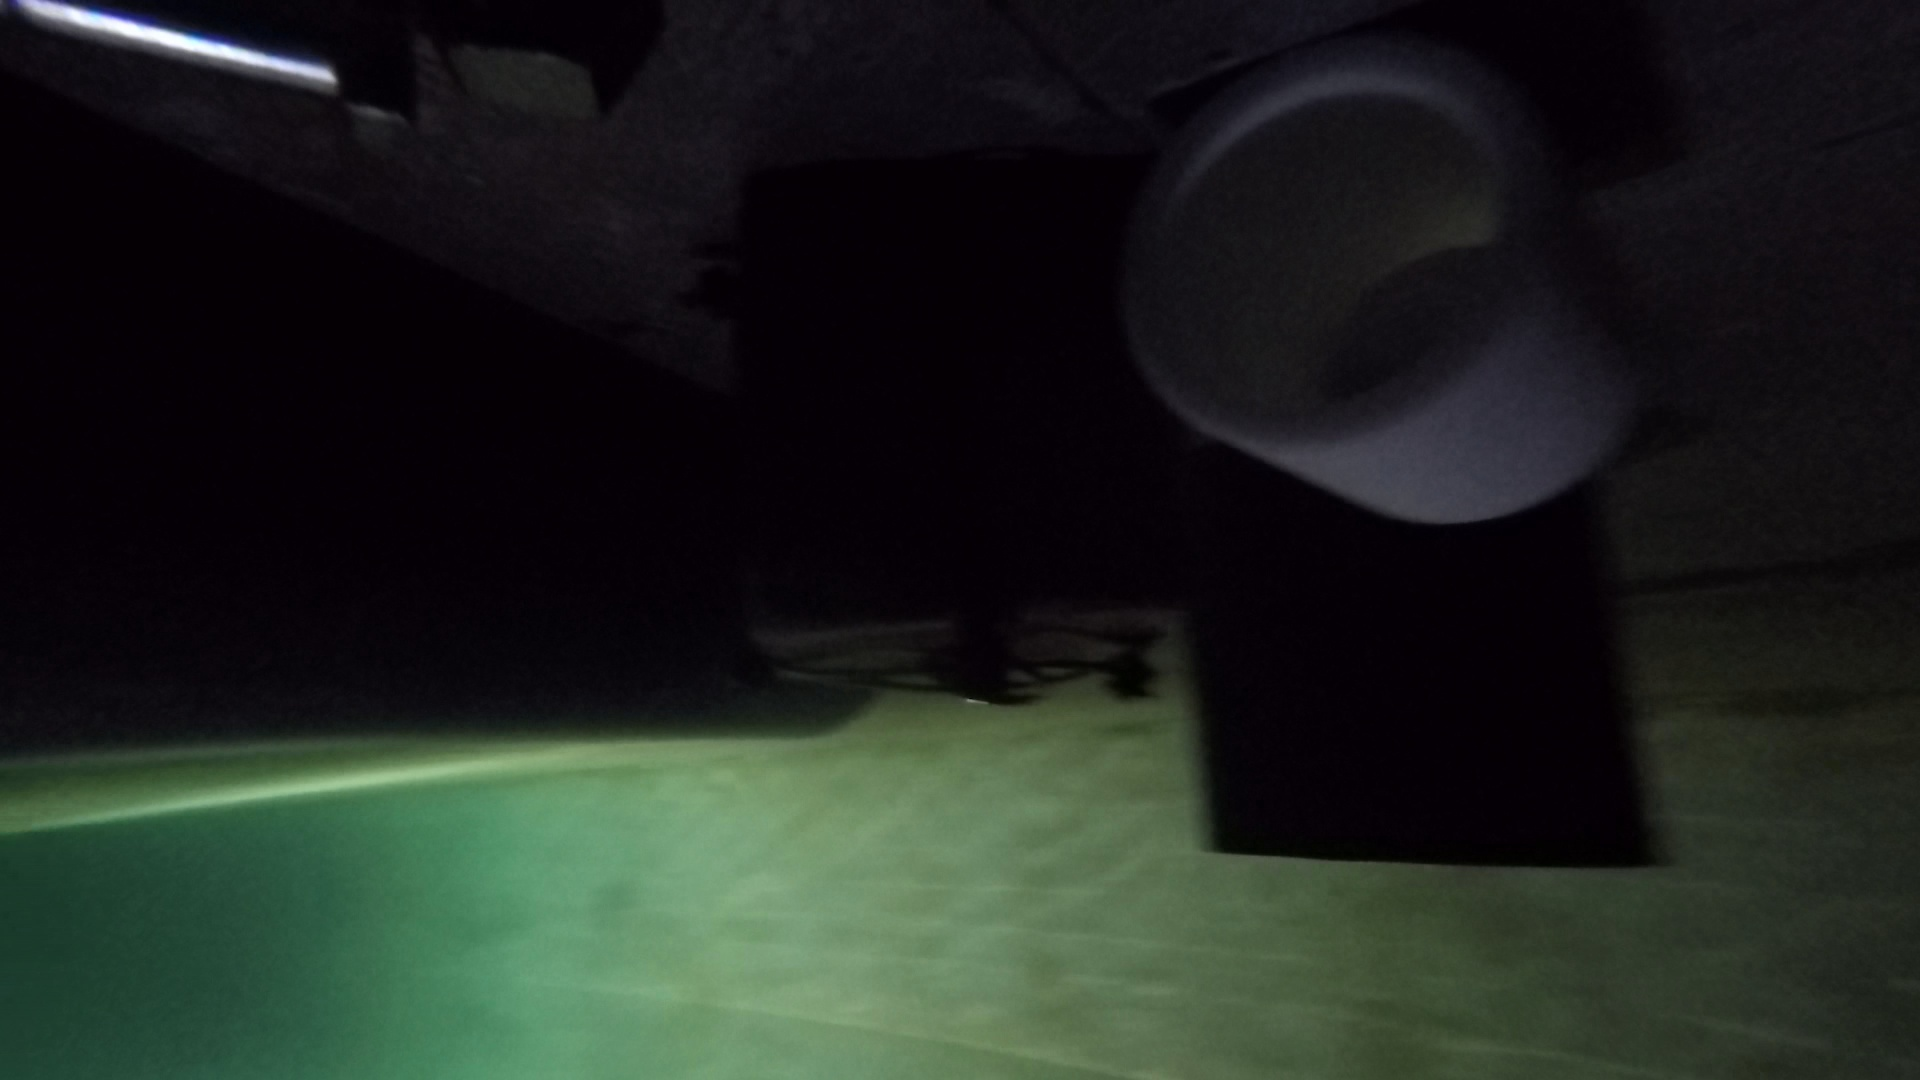bolt: (21, 1, 419, 136)
led_block: (736, 156, 1164, 757)
nut: (436, 3, 669, 125)
pipe: (1, 156, 878, 746), (1122, 36, 1648, 524), (1192, 458, 1656, 872)
